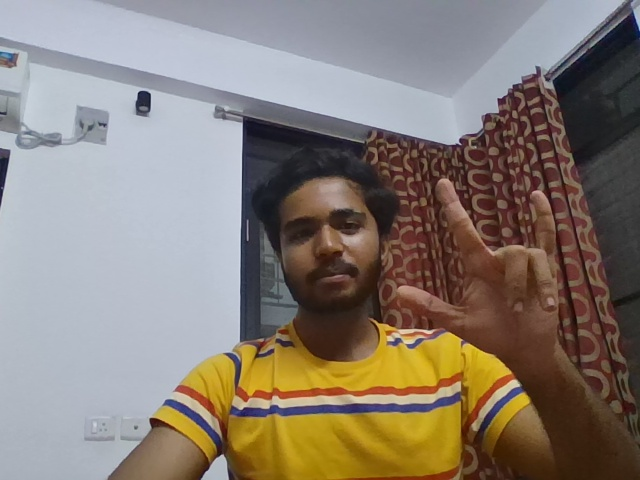I Love You: (386, 174, 576, 362)
